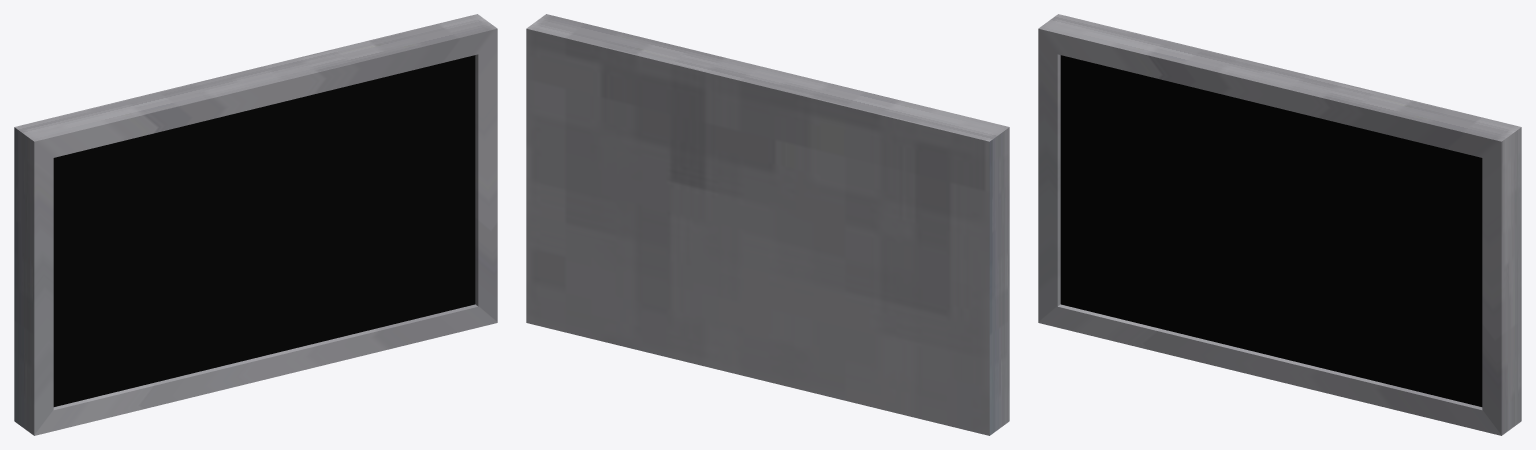
3 views of the same model, side by side, from view 1: azimuth 30°, elevation 25°; view 2: azimuth 150°, elevation 25°; view 3: azimuth 330°, elevation 25° (orthographic).
Visible parts, largest first — view 1: TV; view 2: TV; view 3: TV.
Boxes of the visible parts, bbox=[...] form: TV: bbox=[14, 14, 497, 435]; TV: bbox=[526, 14, 1009, 435]; TV: bbox=[1038, 14, 1521, 435].
Bounding box in the file's own units: 3.37 × 2.04 × 0.2525.
2 materials, 1 textured.
